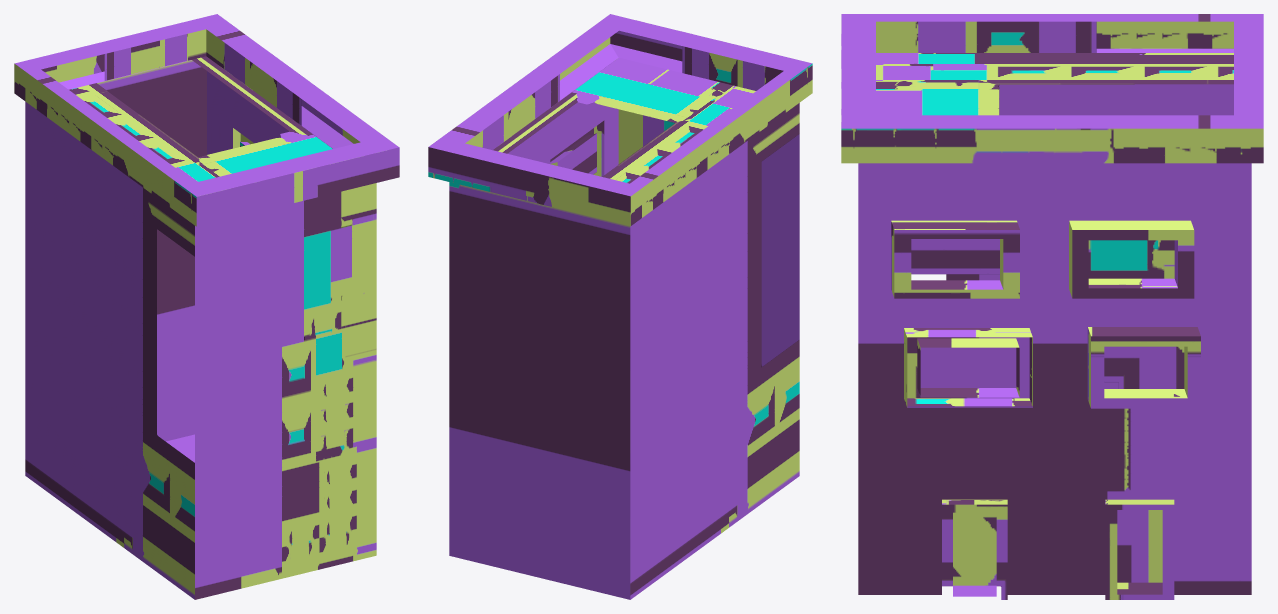
Rendered from Buildings 1.fbx.
3 renders of one model, left to right at view 1: azimuth 30°, elevation 25°; view 2: azimuth 150°, elevation 25°; view 3: azimuth 270°, elevation 25°, orthographic. The views are drawn at different scales.
Visible parts, largest first — view 1: Cube; view 2: Cube; view 3: Cube.
Part boxes in pixels (<box>): Cube: <box>14,14,399,599</box>; Cube: <box>428,14,812,599</box>; Cube: <box>841,14,1263,599</box>.
Size of the model in its own units: 175 by 337 by 272.
1 material, 1 textured.
